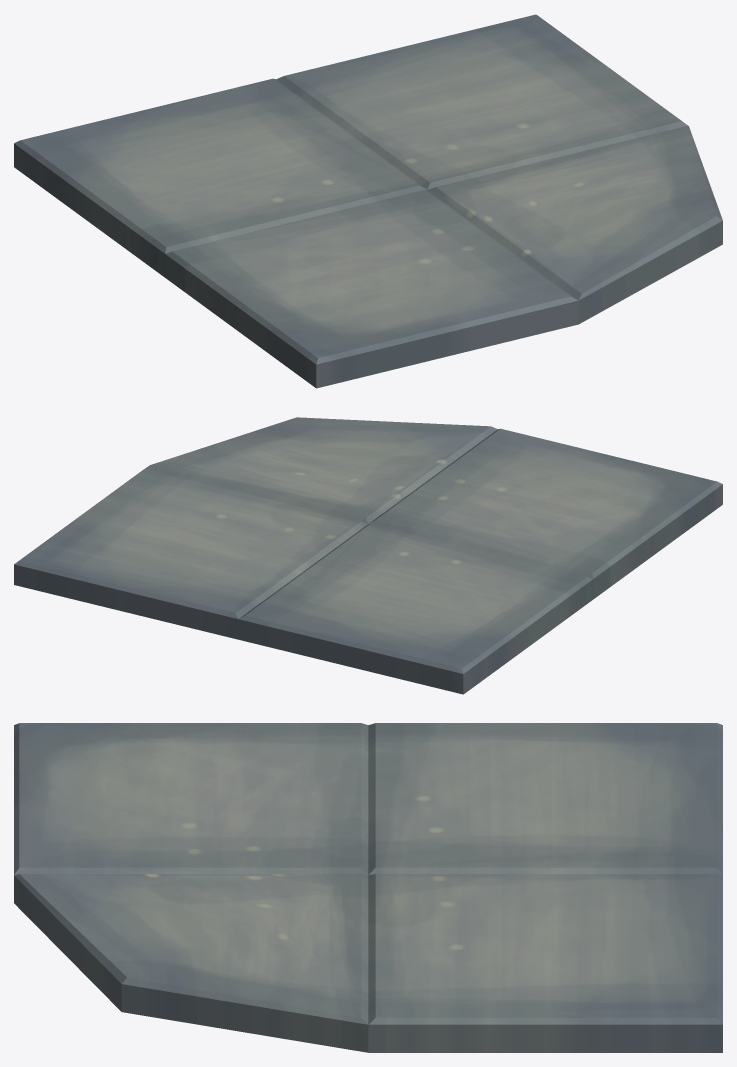
Rendered from Sidewalk_Corner.gltf.
3 views of the same model, one above another, from view 1: azimuth 30°, elevation 25°; view 2: azimuth 150°, elevation 25°; view 3: azimuth 270°, elevation 25° (orthographic). The views are drawn at different scales.
Parts seen in each view (by area): view 1: SideWalk_Corner; view 2: SideWalk_Corner; view 3: SideWalk_Corner.
Part boxes in pixels (x1,y1,x2,y2): SideWalk_Corner: (14, 14, 722, 388); SideWalk_Corner: (14, 417, 722, 694); SideWalk_Corner: (14, 723, 722, 1052).
Size of the model in its own units: 2.65 by 0.1338 by 2.65.
1 material, 1 textured.
